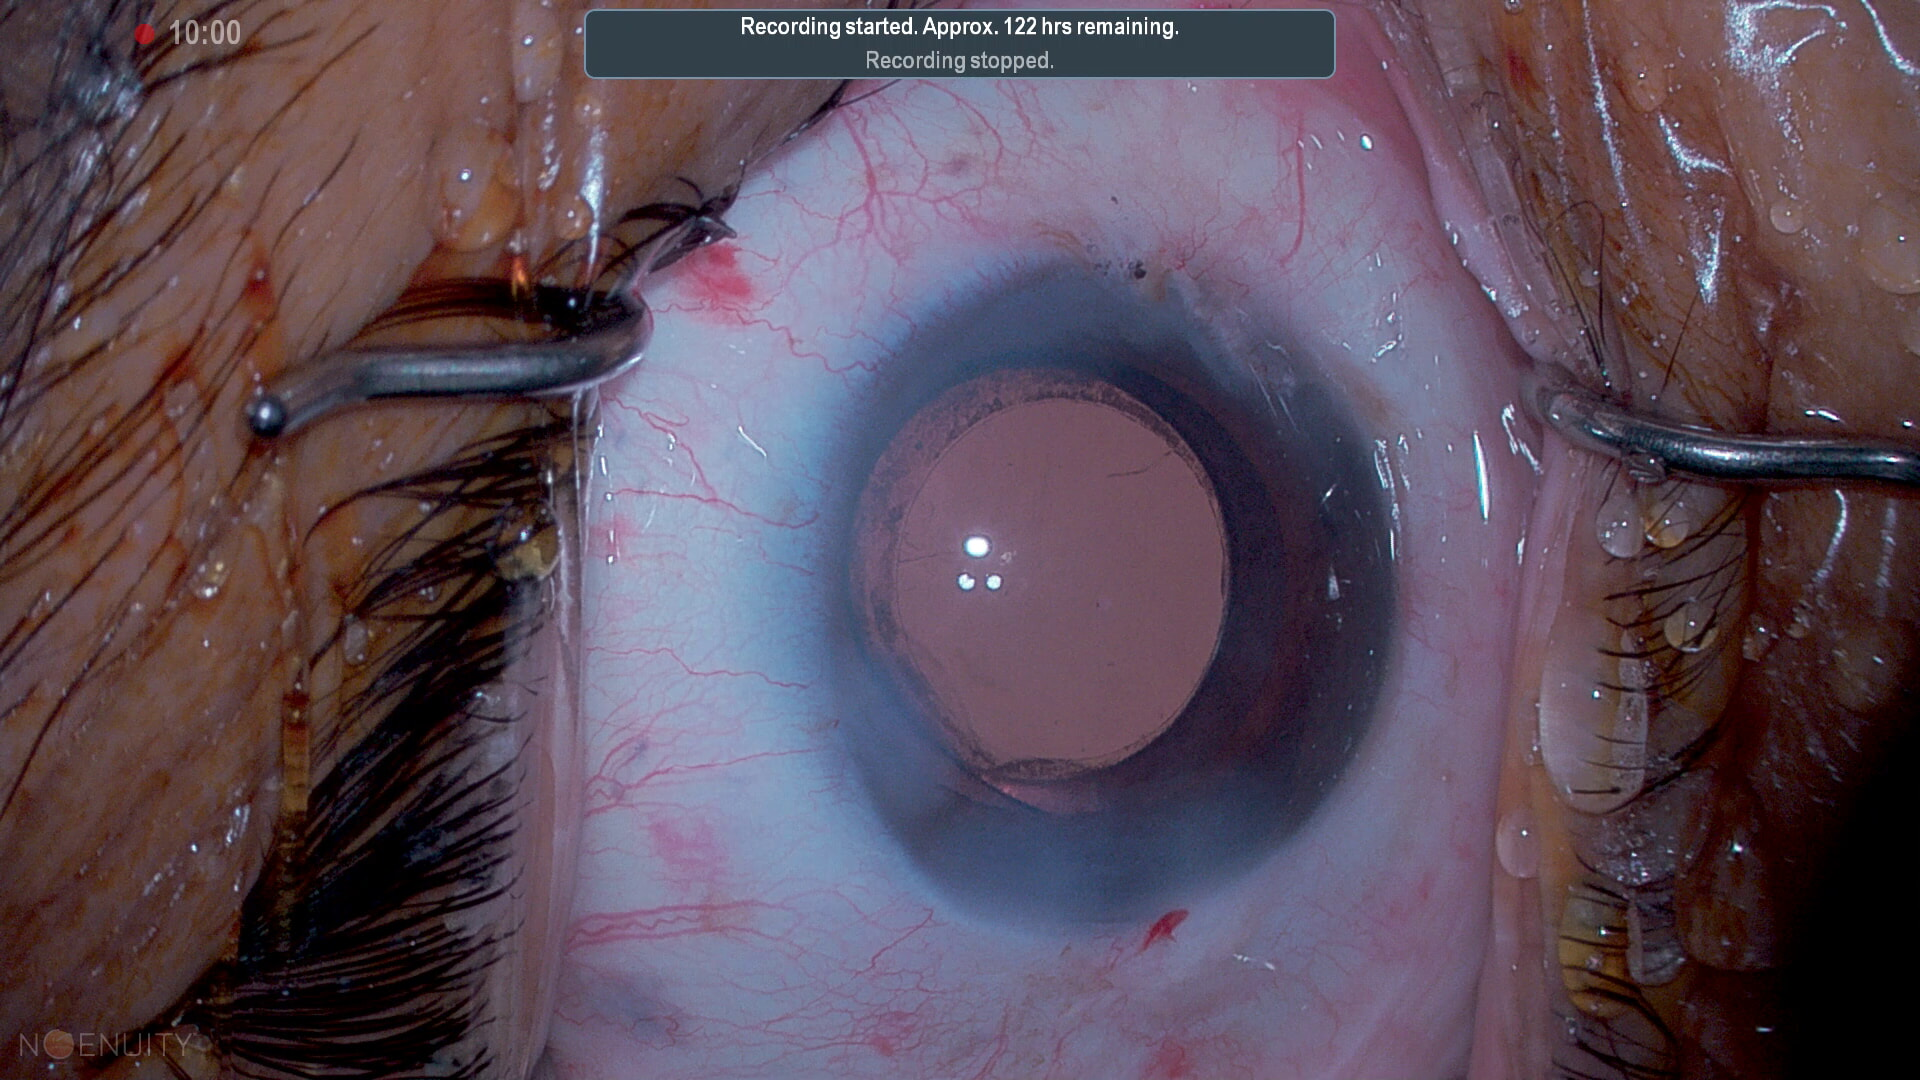iris: (825, 277, 1401, 922)
pupil: (850, 361, 1240, 789)
